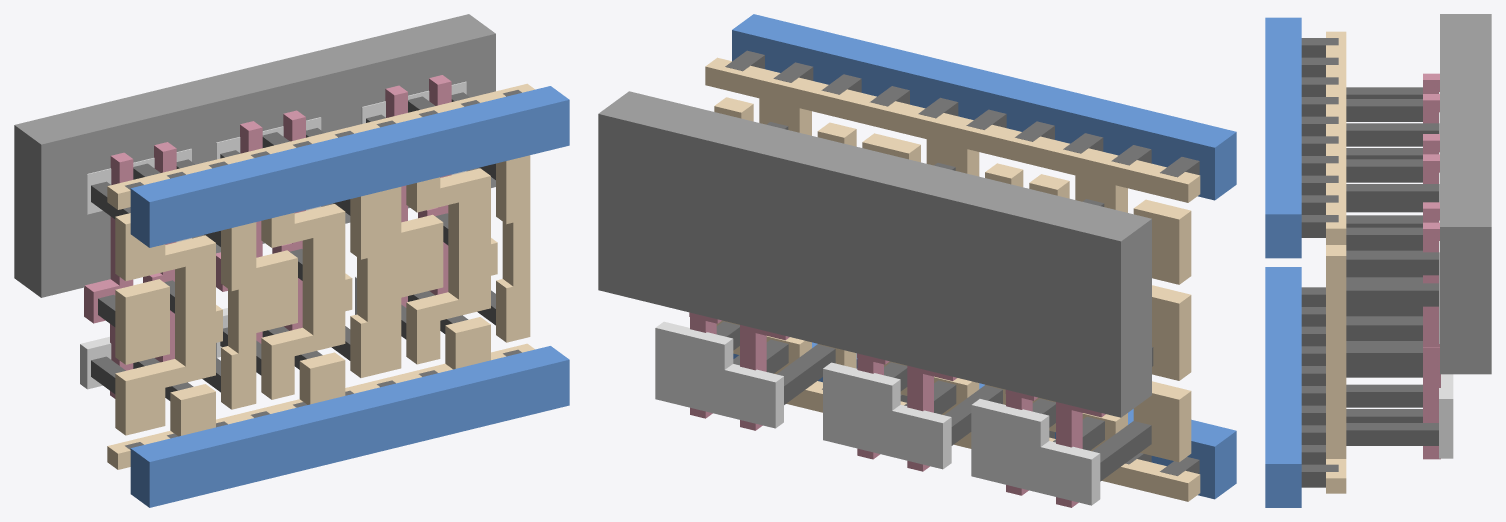
Rendered from sky130_fd_sc_hd__dlymetal6s4s_1.gds.gltf.
The picture shows the model from 3 angles, left to right: view 1: azimuth 30°, elevation 25°; view 2: azimuth 150°, elevation 25°; view 3: azimuth 270°, elevation 25°; orthographic projection. The views are drawn at different scales.
Visible parts, largest first — view 1: sky130_fd_sc_hd__dlymetal6s4s_1_li1, sky130_fd_sc_hd__dlymetal6s4s_1_met1, sky130_fd_sc_hd__dlymetal6s4s_1_nwell, sky130_fd_sc_hd__dlymetal6s4s_1_poly, sky130_fd_sc_hd__dlymetal6s4s_1_licon, sky130_fd_sc_hd__dlymetal6s4s_1_diff, sky130_fd_sc_hd__dlymetal6s4s_1_mcon; view 2: sky130_fd_sc_hd__dlymetal6s4s_1_nwell, sky130_fd_sc_hd__dlymetal6s4s_1_li1, sky130_fd_sc_hd__dlymetal6s4s_1_diff, sky130_fd_sc_hd__dlymetal6s4s_1_met1, sky130_fd_sc_hd__dlymetal6s4s_1_licon, sky130_fd_sc_hd__dlymetal6s4s_1_poly, sky130_fd_sc_hd__dlymetal6s4s_1_mcon; view 3: sky130_fd_sc_hd__dlymetal6s4s_1_licon, sky130_fd_sc_hd__dlymetal6s4s_1_nwell, sky130_fd_sc_hd__dlymetal6s4s_1_met1, sky130_fd_sc_hd__dlymetal6s4s_1_mcon, sky130_fd_sc_hd__dlymetal6s4s_1_li1, sky130_fd_sc_hd__dlymetal6s4s_1_poly, sky130_fd_sc_hd__dlymetal6s4s_1_diff.
Part boxes in pixels (bbox=[...]): sky130_fd_sc_hd__dlymetal6s4s_1_li1: bbox=[107, 83, 534, 469]; sky130_fd_sc_hd__dlymetal6s4s_1_met1: bbox=[130, 86, 569, 507]; sky130_fd_sc_hd__dlymetal6s4s_1_nwell: bbox=[14, 14, 495, 297]; sky130_fd_sc_hd__dlymetal6s4s_1_poly: bbox=[84, 75, 451, 398]; sky130_fd_sc_hd__dlymetal6s4s_1_licon: bbox=[91, 92, 495, 400]; sky130_fd_sc_hd__dlymetal6s4s_1_diff: bbox=[80, 81, 466, 389]; sky130_fd_sc_hd__dlymetal6s4s_1_mcon: bbox=[125, 90, 521, 449]; sky130_fd_sc_hd__dlymetal6s4s_1_nwell: bbox=[598, 91, 1151, 417]; sky130_fd_sc_hd__dlymetal6s4s_1_li1: bbox=[705, 57, 1200, 501]; sky130_fd_sc_hd__dlymetal6s4s_1_diff: bbox=[655, 321, 1100, 505]; sky130_fd_sc_hd__dlymetal6s4s_1_met1: bbox=[732, 14, 1236, 499]; sky130_fd_sc_hd__dlymetal6s4s_1_licon: bbox=[716, 122, 1153, 481]; sky130_fd_sc_hd__dlymetal6s4s_1_poly: bbox=[689, 312, 1105, 507]; sky130_fd_sc_hd__dlymetal6s4s_1_mcon: bbox=[725, 50, 1199, 475]; sky130_fd_sc_hd__dlymetal6s4s_1_licon: bbox=[1346, 87, 1438, 445]; sky130_fd_sc_hd__dlymetal6s4s_1_nwell: bbox=[1440, 14, 1491, 374]; sky130_fd_sc_hd__dlymetal6s4s_1_met1: bbox=[1265, 17, 1301, 507]; sky130_fd_sc_hd__dlymetal6s4s_1_mcon: bbox=[1301, 38, 1338, 487]; sky130_fd_sc_hd__dlymetal6s4s_1_li1: bbox=[1326, 31, 1346, 493]; sky130_fd_sc_hd__dlymetal6s4s_1_poly: bbox=[1423, 73, 1440, 459]; sky130_fd_sc_hd__dlymetal6s4s_1_diff: bbox=[1439, 92, 1453, 458].
Size of the model in its own units: 4.98 by 3.2 by 2.24.
